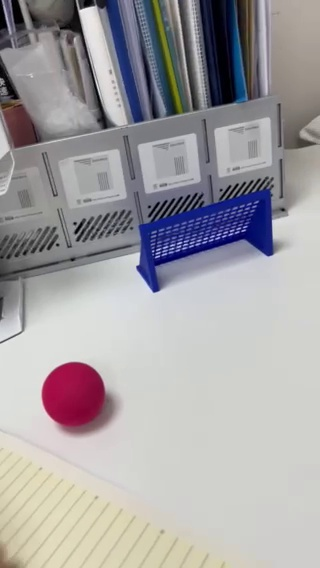goal: (128, 205, 289, 297)
redball: (40, 361, 105, 428)
